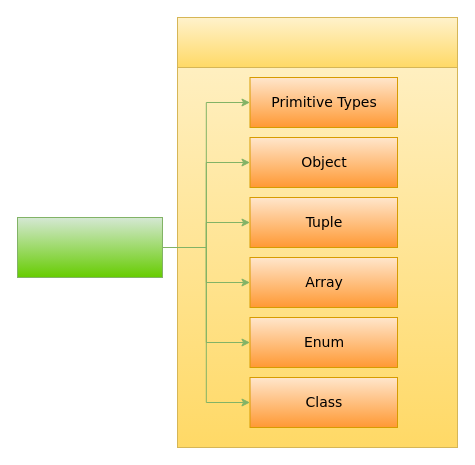
Some shapes in this 475 by 465 pixel diagram are drawn without their labels. The centre of each missing label's shape, as x and y in pixels:
"export" goes at (89,247).
"Namespace" goes at (317,42).
